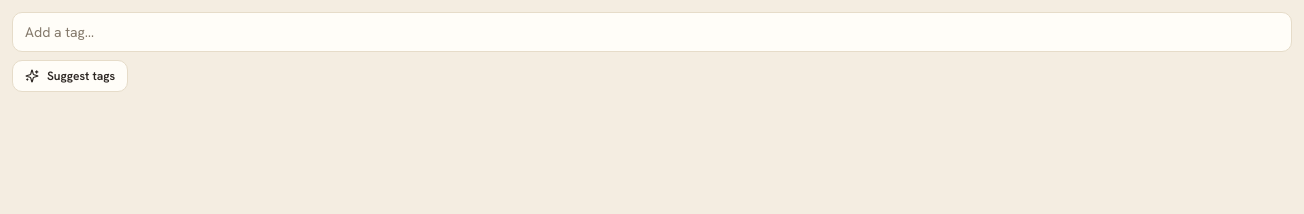
Scenario: ItemTagsEditor › keeps recipe vocabulary out of the dropdown
# Focus alone opens the list, so this is the whole item-offerable pool.
Focus the dropdown: x=652, y=32 x1=12 y1=12 x2=1292 y2=52
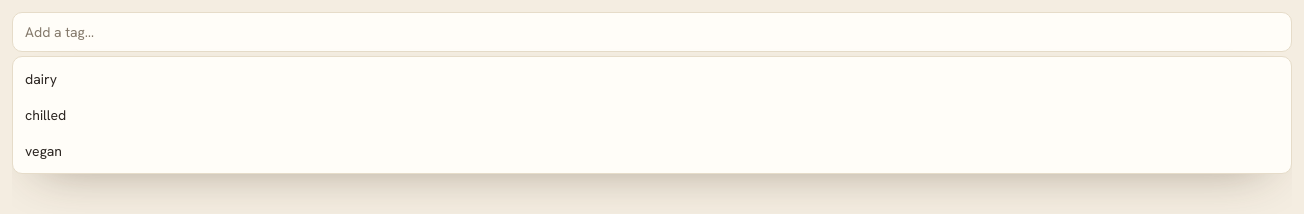
Expected: the option "chilled" is shown, x1=13 y1=97 x2=1291 y2=133
